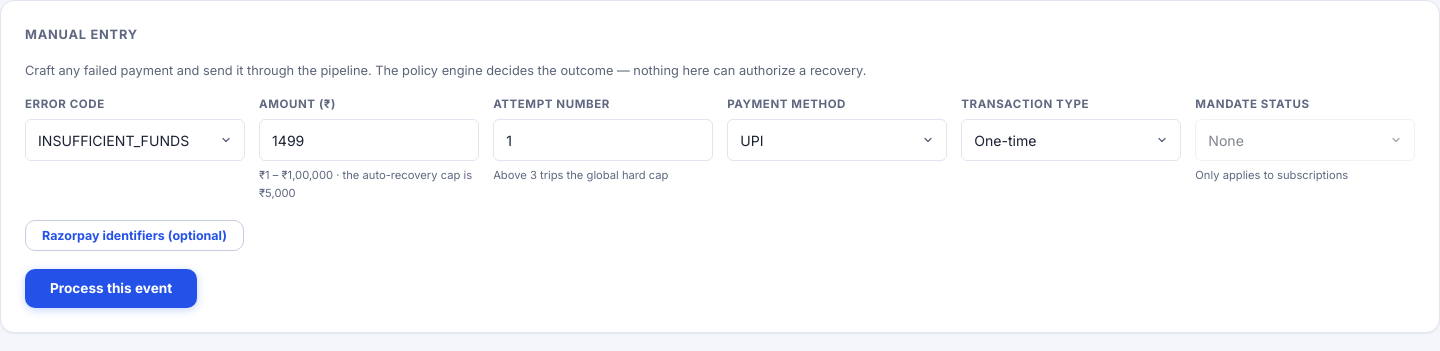
it: ManualEntry › only allows a mandate status on subscriptions
The width and height of the screenshot is (1440, 351).
Expected: the dropdown with test id "manual-mandate" is disabled, [1195, 119, 1415, 161]
Select "Subscription" in the dropdown with test id "manual-type" at (1071, 140), box [961, 119, 1181, 161]
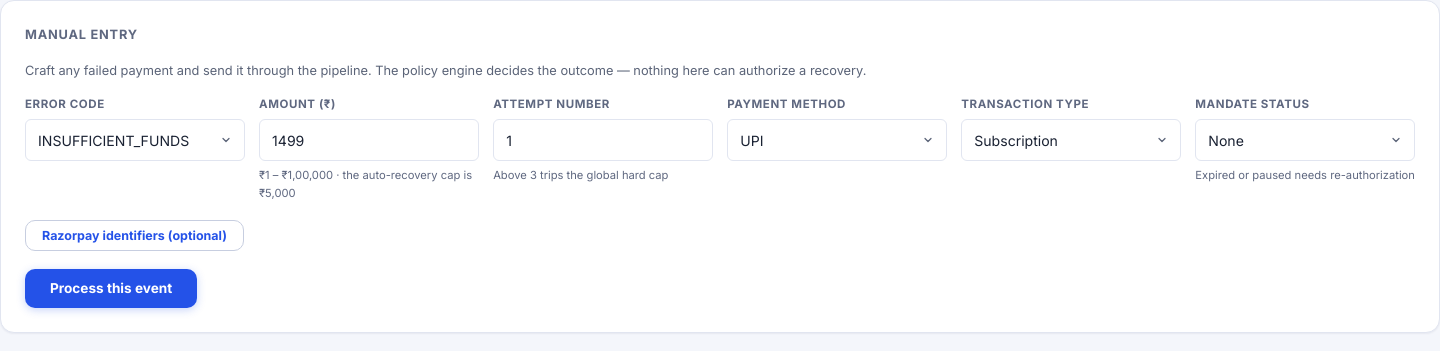
Expected: the dropdown with test id "manual-mandate" is enabled, [1195, 119, 1415, 161]
